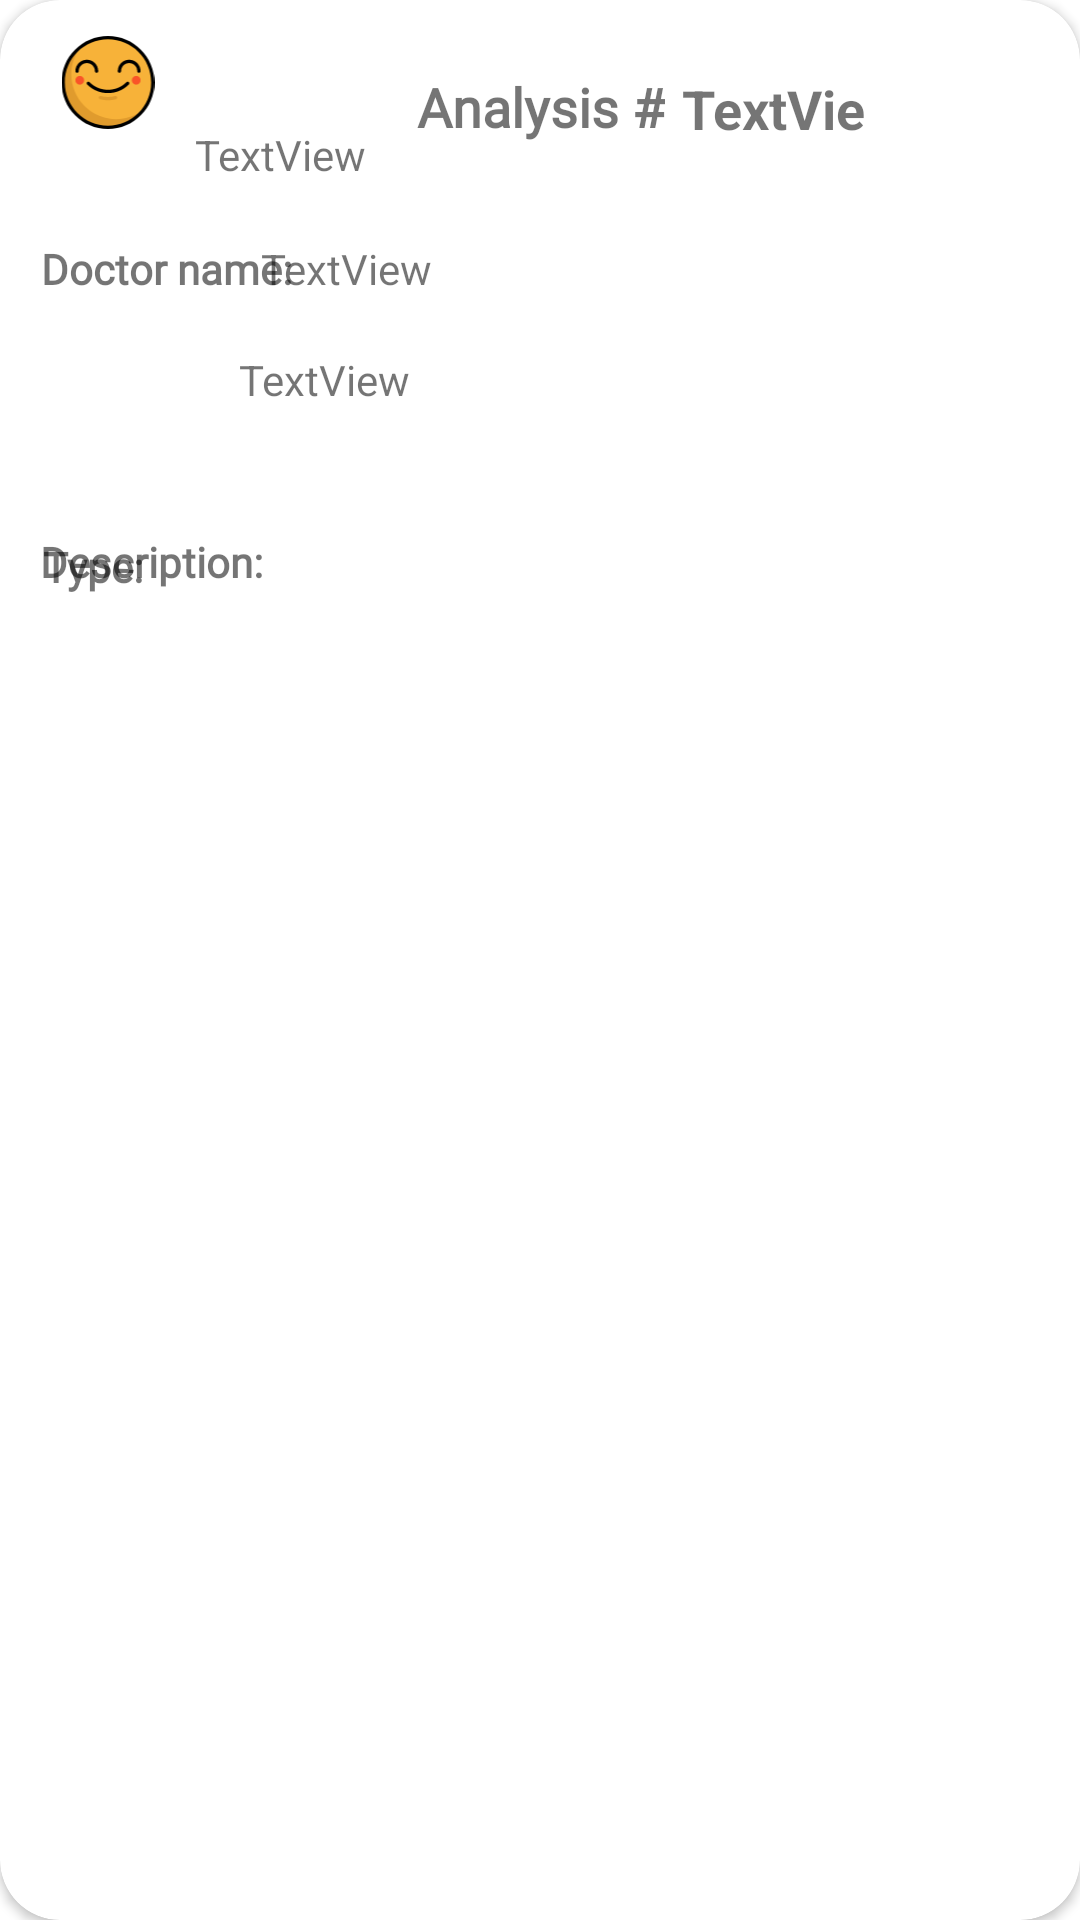

Point at icon controls on the screen. Image size 1080 × 1920, points as point (x, y).
happy: point (108, 82)
